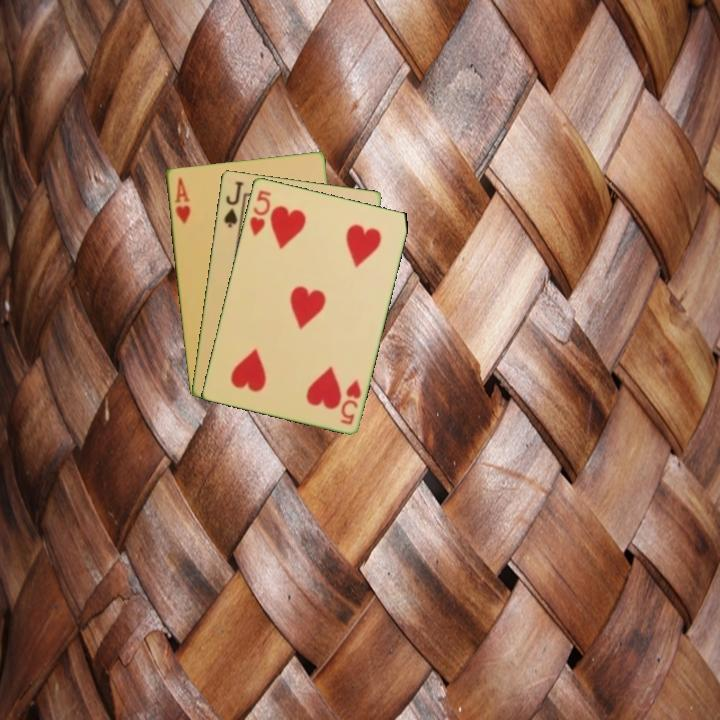5h: (246, 186, 273, 239), (337, 376, 364, 427)
Ah: (171, 174, 193, 226)
Js: (220, 177, 246, 230)
